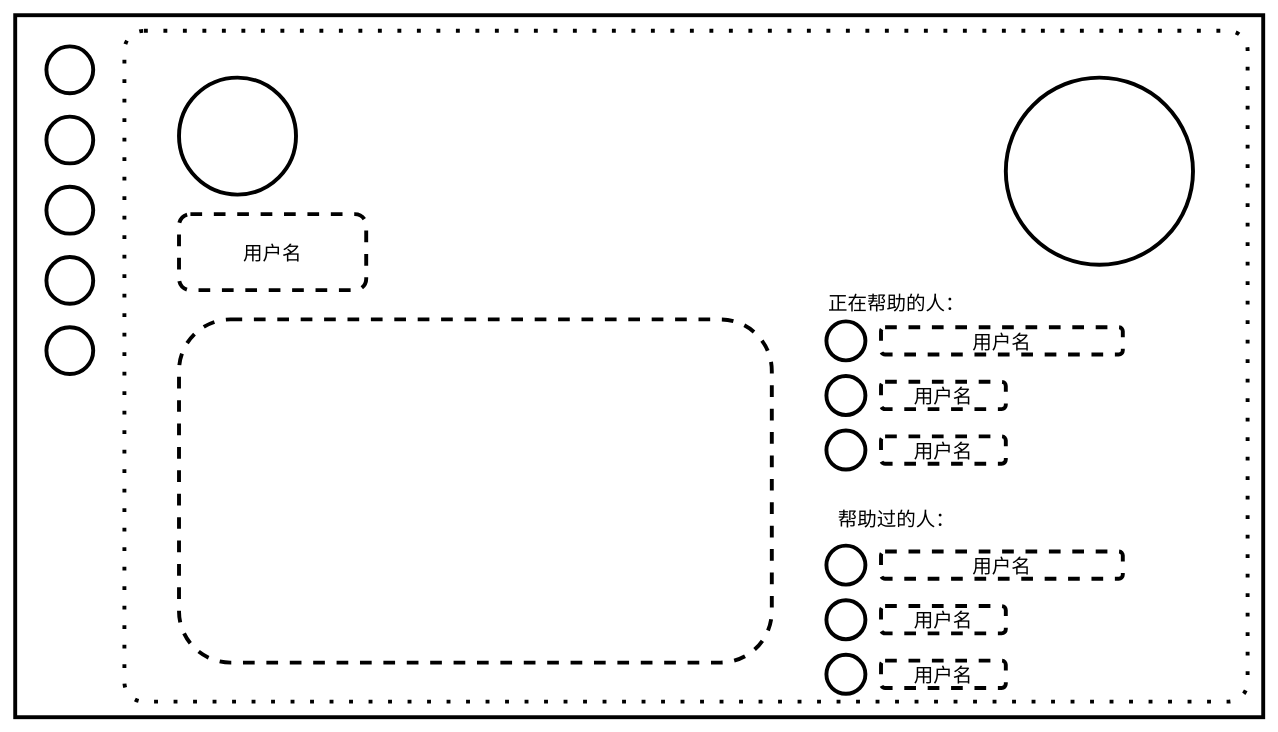
The diagram is 1278 pixels wide and 732 high, and some of its shapes have lost their labels. The centre of each missing label's shape, as x and y in pixels:
e5剩余天数: point (1099, 170)
介绍 联系方式: point (475, 490)
头像: point (237, 135)
